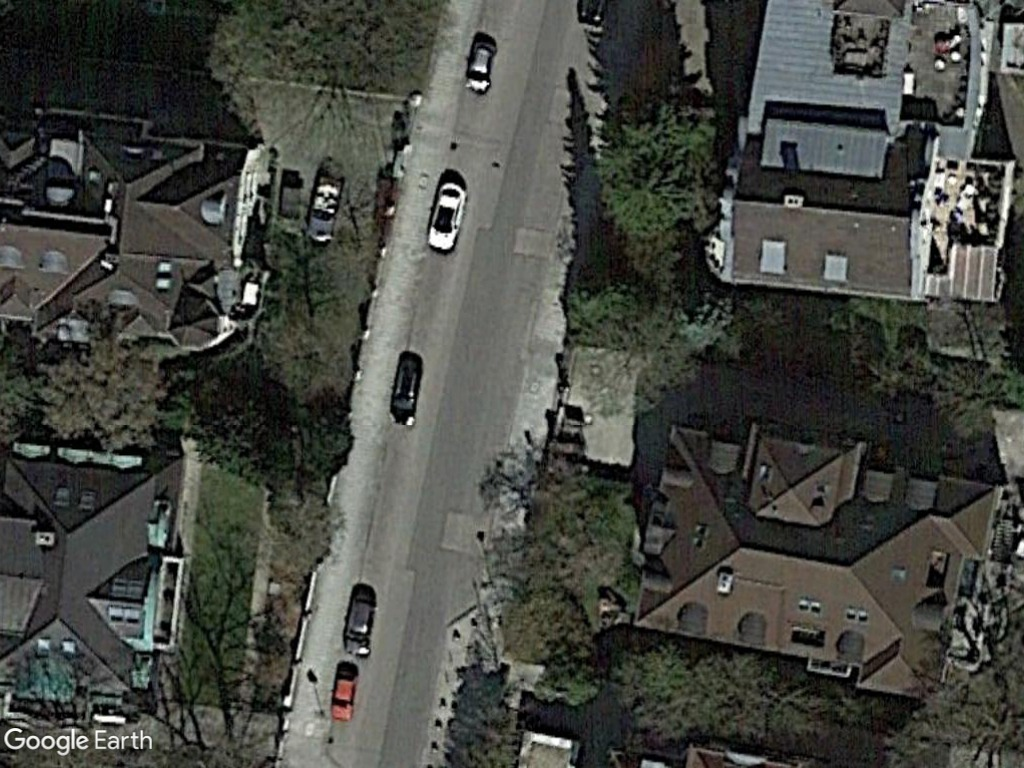car: (425, 179, 467, 255), (341, 592, 376, 659), (325, 664, 361, 722), (463, 38, 497, 97)
